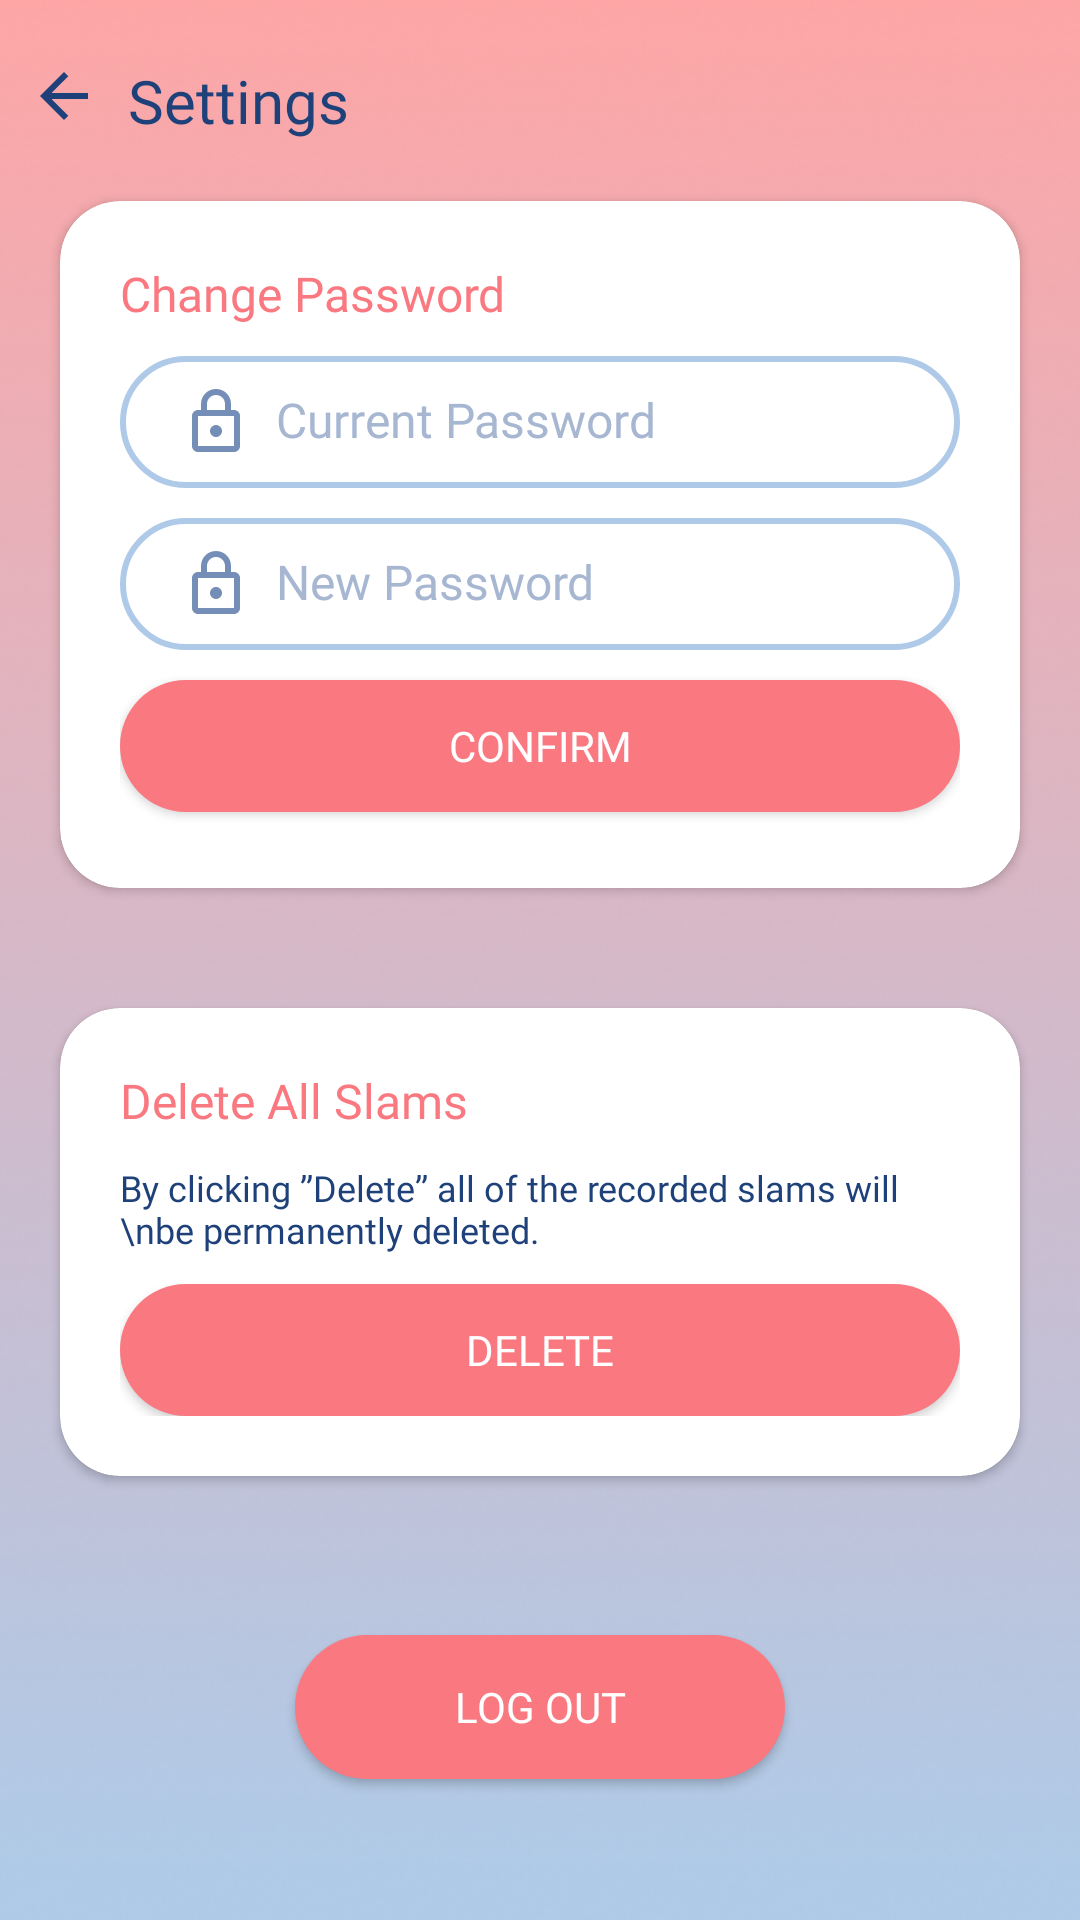

Locate icon controls on the screen. Image size 1080 x 1920, boxes as [x1, y1, x2, y2].
arrow back: [40, 72, 88, 120]
